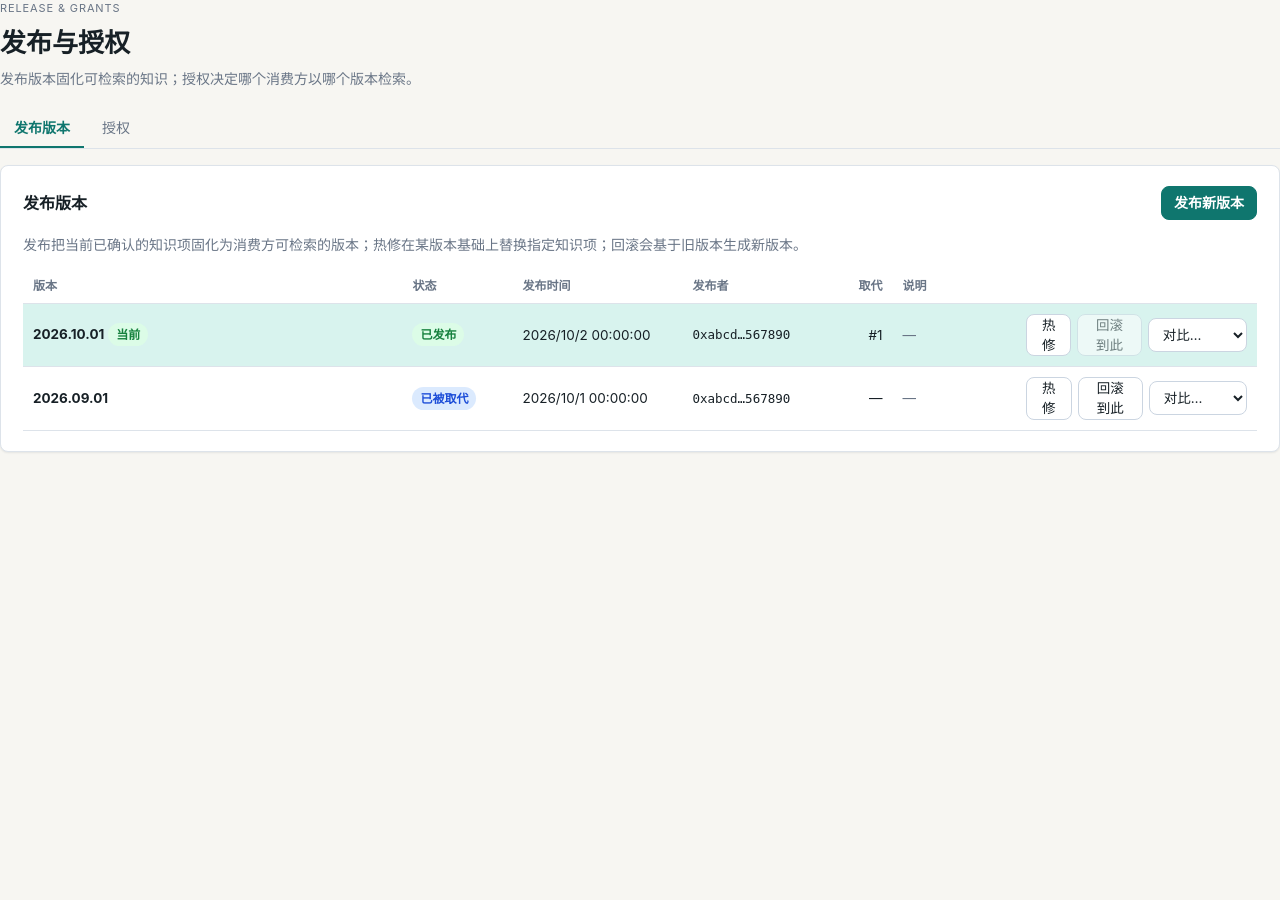
Test: release & grants workbench › publishes a new version
Expected: the text "2026.10.01" is shown, [33, 326, 104, 342]
Expected: the text "当前" is shown, [108, 323, 148, 346]
Step 1. Click the button "发布新版本" → (1209, 202), box [1161, 186, 1257, 220]
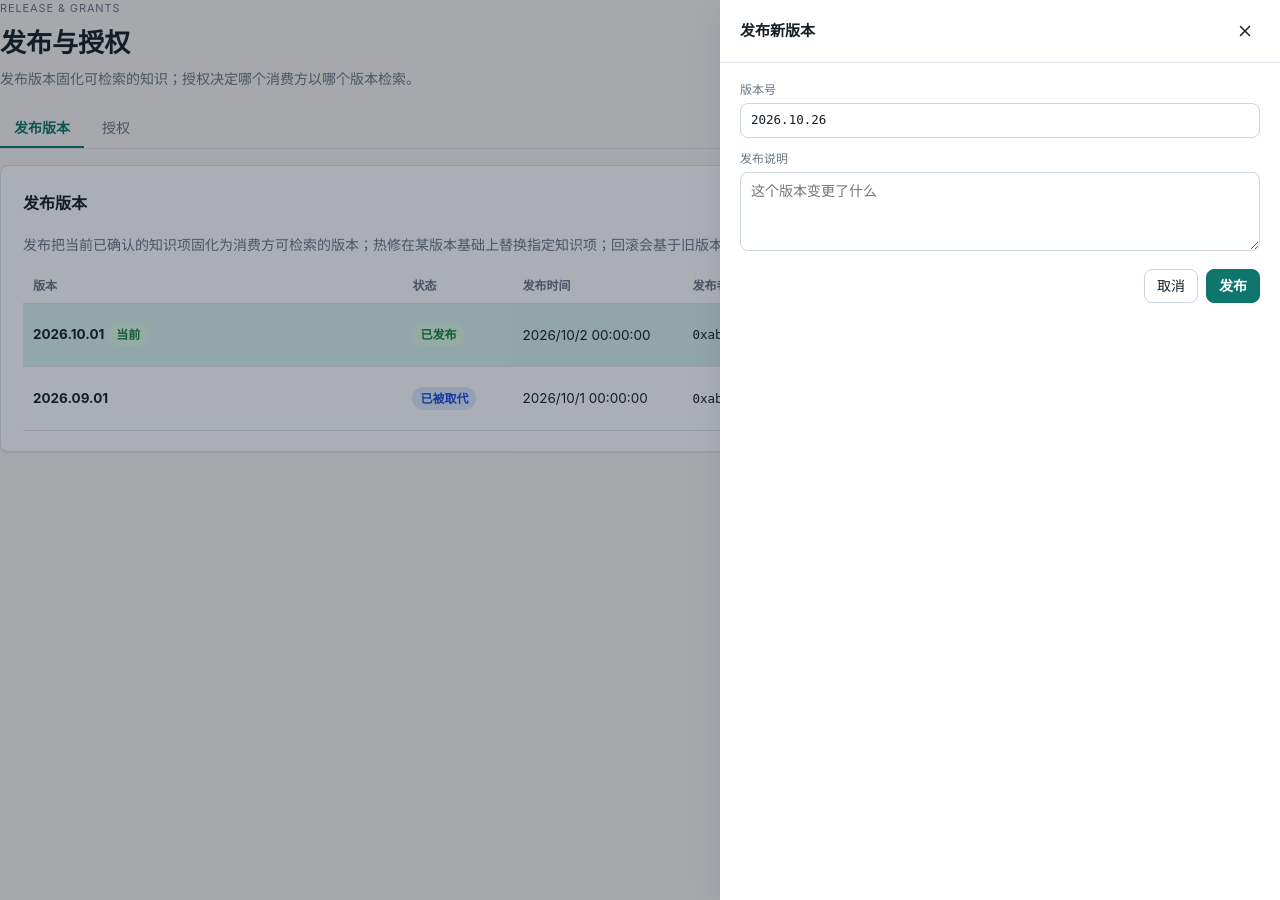
Step 2. Replace the text in the field labelled "版本号" with "2026.10.02" → (1000, 120), box [740, 103, 1260, 138]
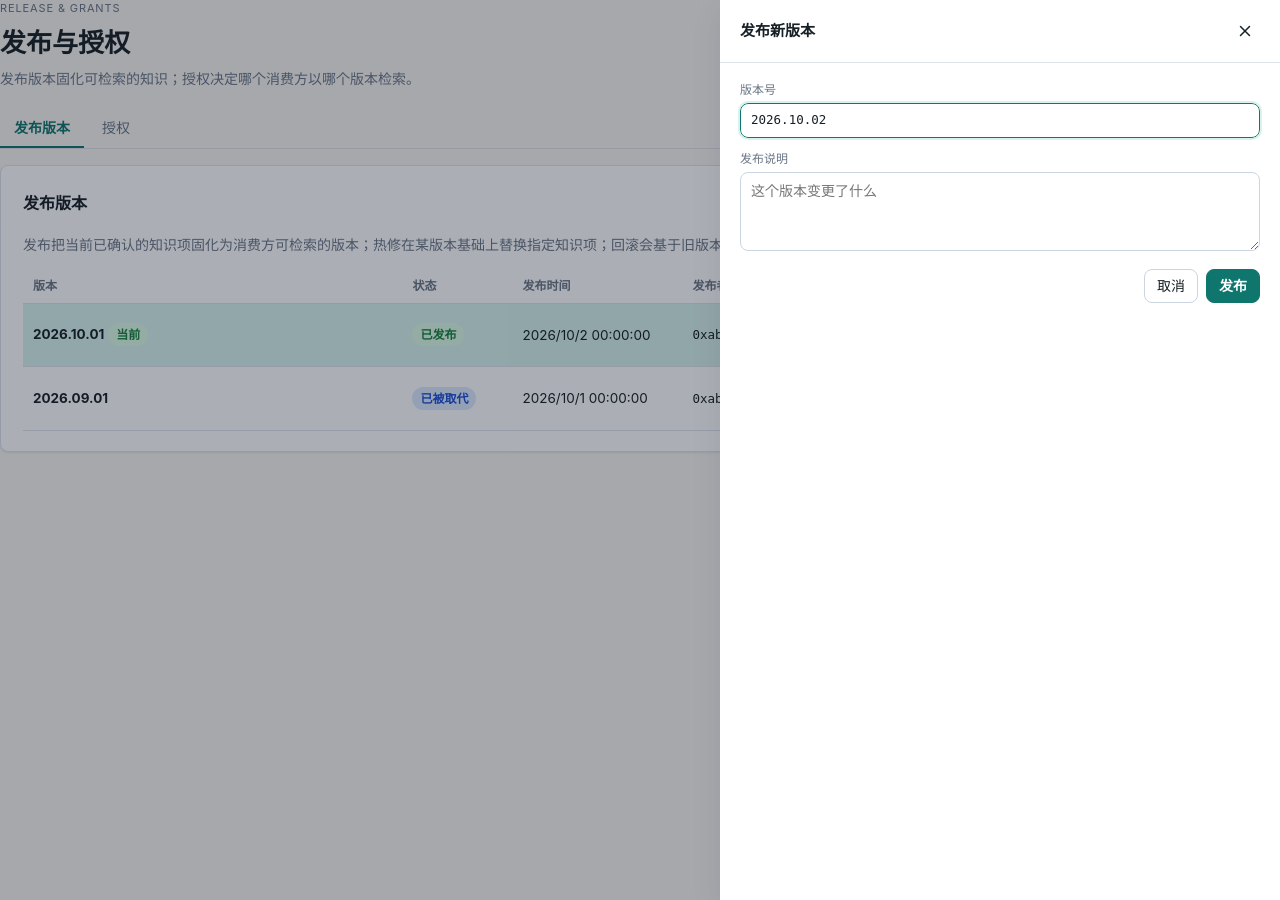
Step 3. Type "新增凭证说明" into the text box labelled "发布说明" → (1000, 211), box [740, 172, 1260, 251]
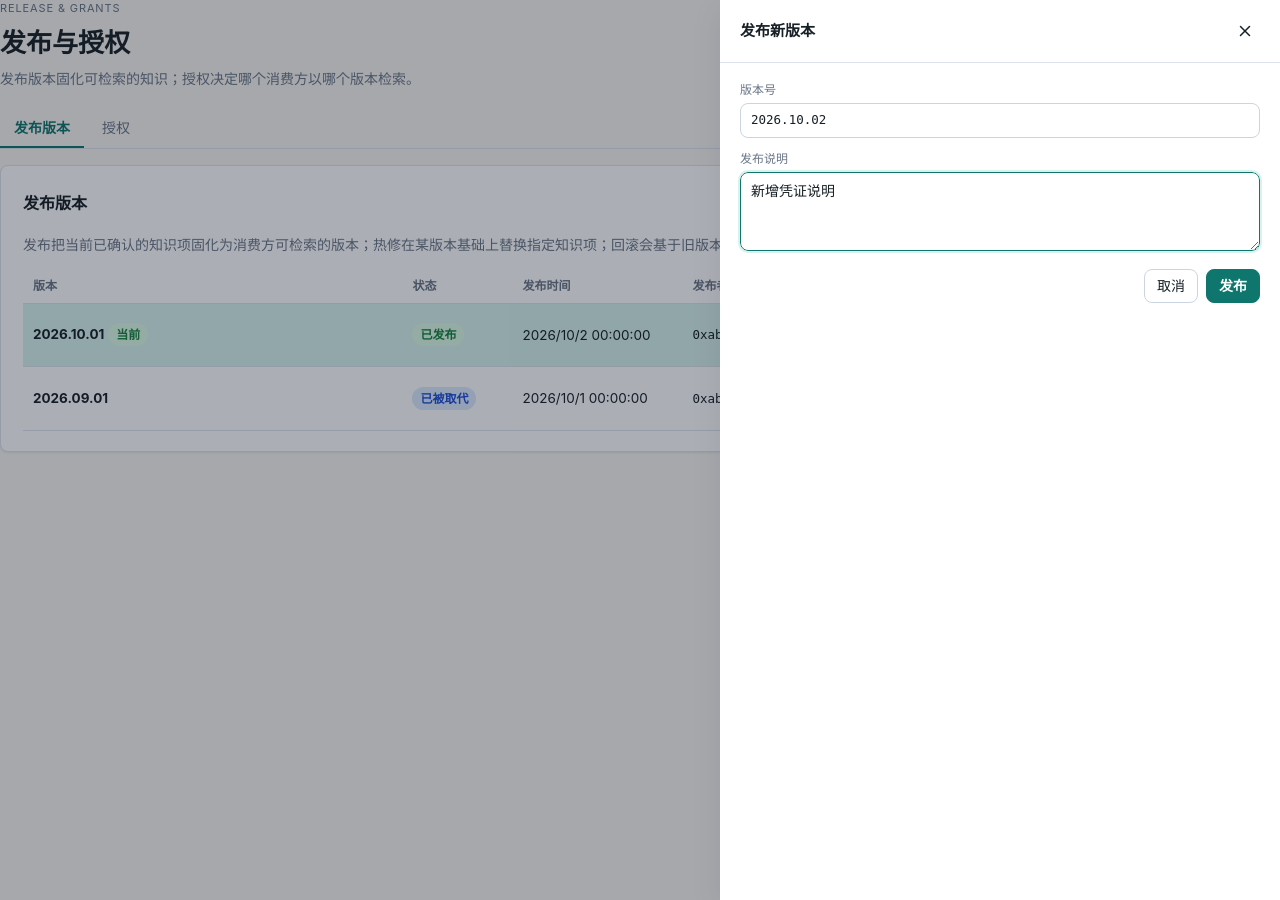
Step 4. Click the button "发布" → (1233, 286), box [1206, 269, 1260, 303]
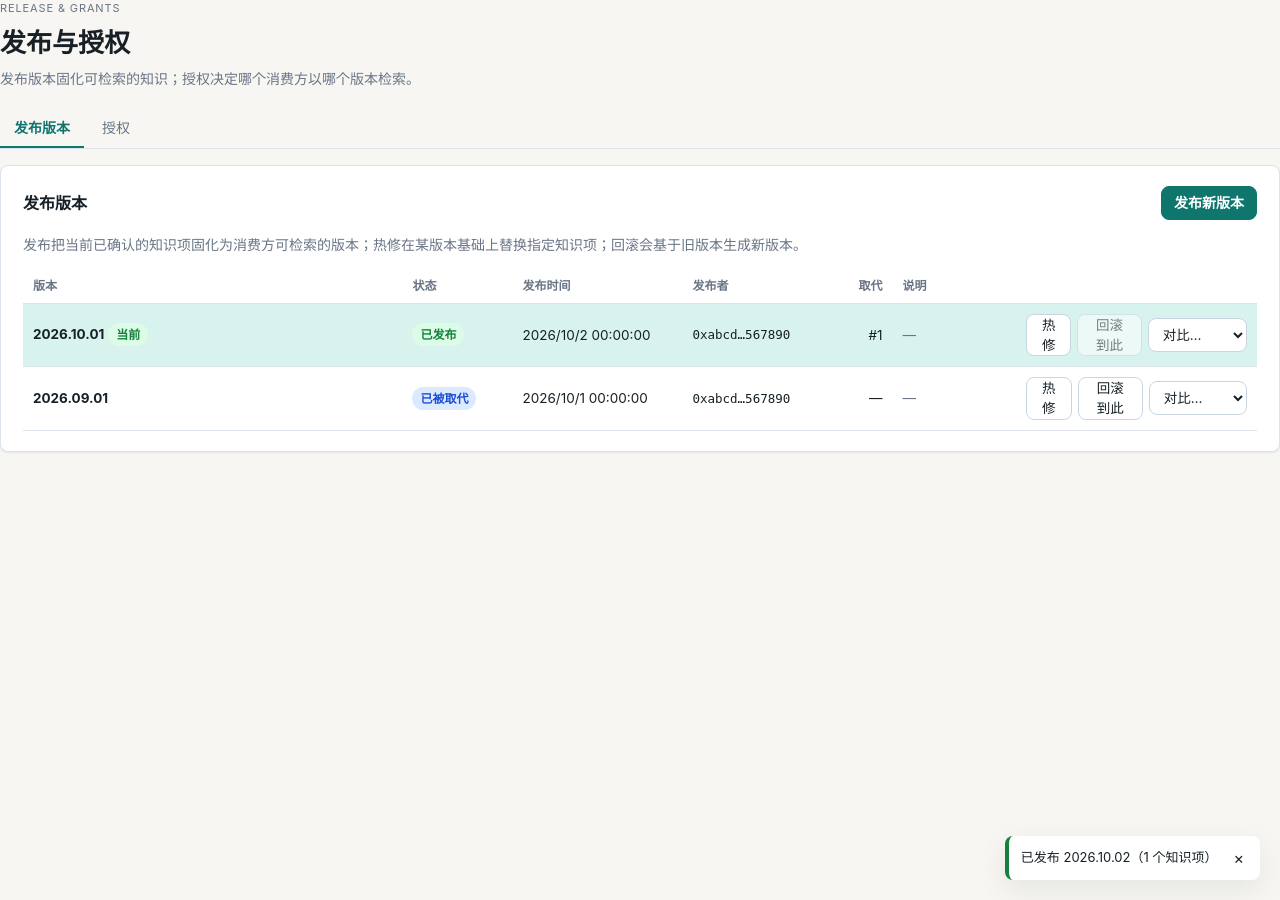
Expected: the text "已发布 2026.10.02（1 个知识项）" is shown, [1021, 848, 1217, 868]
